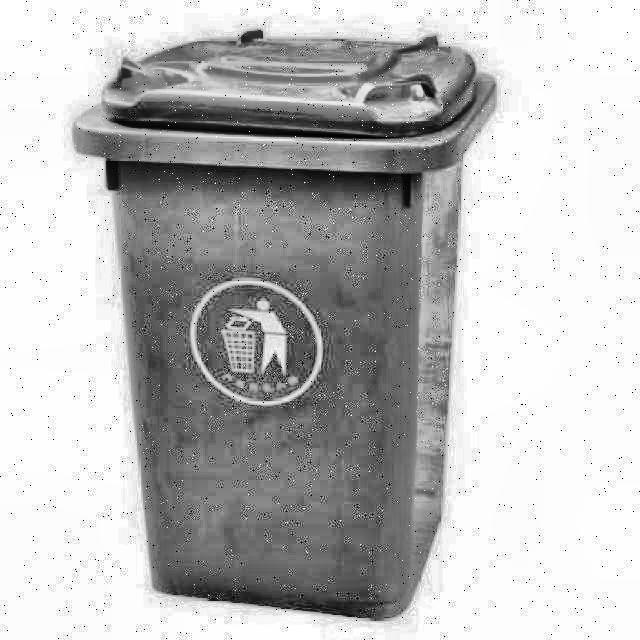Dustbin: (61, 19, 517, 638)
